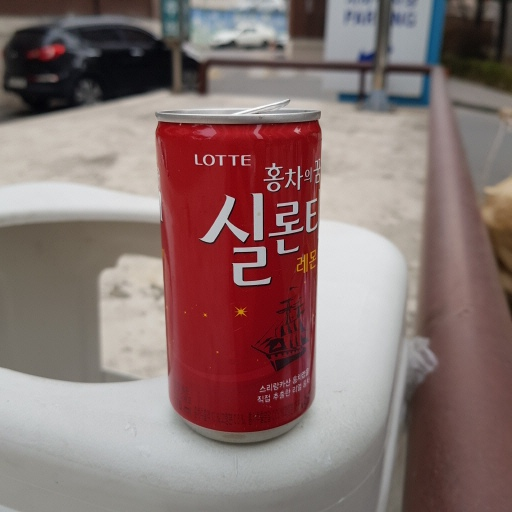Metal_0: (154, 99, 321, 444)
